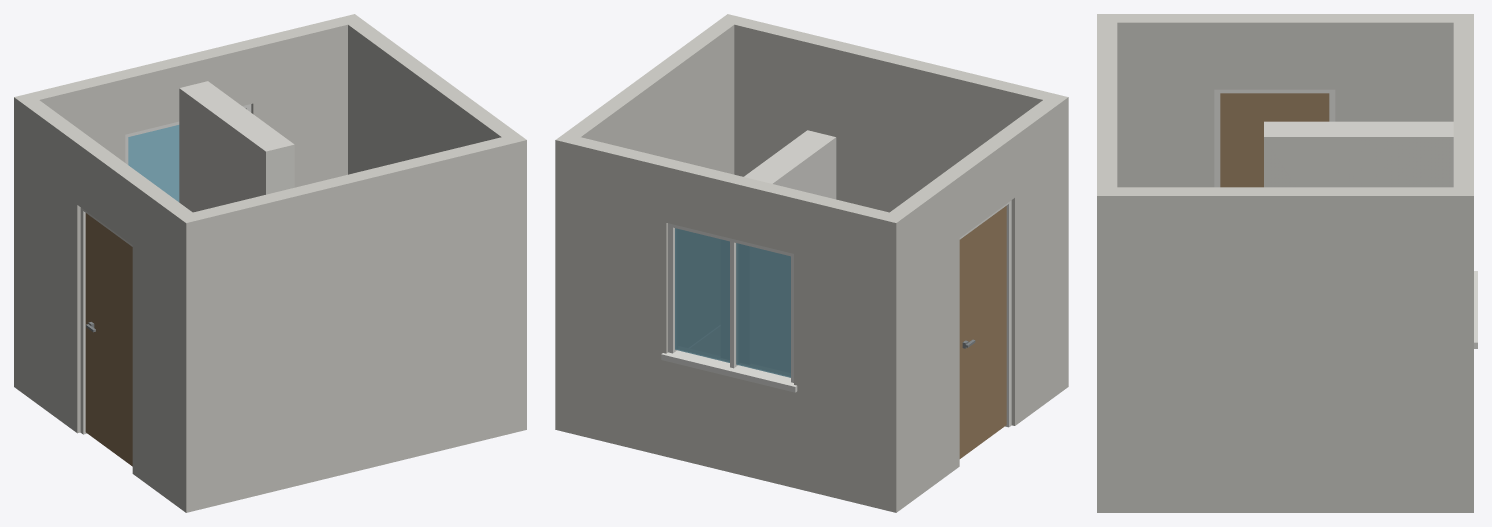
Rendered from layoutvlm.glb.
3 views of the same model, side by side, from view 1: azimuth 30°, elevation 25°; view 2: azimuth 150°, elevation 25°; view 3: azimuth 270°, elevation 25° (orthographic). The views are drawn at different scales.
Parts seen in each view (by area): view 1: wall|scenesmith_059__R00|0, wall|scenesmith_059__R00|2, wall|scenesmith_059__R00|1, wall|scenesmith_059__R00|3, scenesmith_059__R00_plumbing_chase-0 | structural enclosure, wall|scenesmith_059__R00|2 Door 0 | wood leaf, wall|scenesmith_059__R00|1 Window 0 | glazing, wall|scenesmith_059__R00|2 Door 0 | jamb; view 2: wall|scenesmith_059__R00|1, wall|scenesmith_059__R00|2, wall|scenesmith_059__R00|0, wall|scenesmith_059__R00|3, wall|scenesmith_059__R00|1 Window 0 | glazing, wall|scenesmith_059__R00|2 Door 0 | wood leaf, wall|scenesmith_059__R00|1 Window 0 | jamb, scenesmith_059__R00_plumbing_chase-0 | structural enclosure, wall|scenesmith_059__R00|2 Door 0 | jamb; view 3: wall|scenesmith_059__R00|3, wall|scenesmith_059__R00|2, scenesmith_059__R00_plumbing_chase-0 | structural enclosure, wall|scenesmith_059__R00|0, wall|scenesmith_059__R00|2 Door 0 | wood leaf, wall|scenesmith_059__R00|1, wall|scenesmith_059__R00|2 Door 0 | jamb.
Part boxes in pixels (x1,y1,x2,y2): wall|scenesmith_059__R00|0: (177,133,526,512); wall|scenesmith_059__R00|2: (23,100,201,511); wall|scenesmith_059__R00|1: (14,14,363,393); wall|scenesmith_059__R00|3: (348,21,517,174); scenesmith_059__R00_plumbing_chase-0 | structural enclosure: (179,81,294,212); wall|scenesmith_059__R00|2 Door 0 | wood leaf: (85,213,132,466); wall|scenesmith_059__R00|1 Window 0 | glazing: (128,125,179,201); wall|scenesmith_059__R00|2 Door 0 | jamb: (80,207,132,434); wall|scenesmith_059__R00|1: (556,133,905,512); wall|scenesmith_059__R00|2: (880,93,1067,512); wall|scenesmith_059__R00|0: (718,14,1068,393); wall|scenesmith_059__R00|3: (555,18,741,433); wall|scenesmith_059__R00|1 Window 0 | glazing: (675,228,790,377); wall|scenesmith_059__R00|2 Door 0 | wood leaf: (959,206,1006,458); wall|scenesmith_059__R00|1 Window 0 | jamb: (661,223,797,392); scenesmith_059__R00_plumbing_chase-0 | structural enclosure: (744,130,836,199); wall|scenesmith_059__R00|2 Door 0 | jamb: (959,200,1011,427); wall|scenesmith_059__R00|3: (1097,187,1473,512); wall|scenesmith_059__R00|2: (1097,14,1453,187); scenesmith_059__R00_plumbing_chase-0 | structural enclosure: (1264,121,1453,187); wall|scenesmith_059__R00|0: (1097,22,1117,512); wall|scenesmith_059__R00|2 Door 0 | wood leaf: (1220,93,1329,187); wall|scenesmith_059__R00|1: (1453,14,1473,420); wall|scenesmith_059__R00|2 Door 0 | jamb: (1214,89,1335,187).
Bounding box in the file's own units: 3.2 × 2.61 × 2.83.
